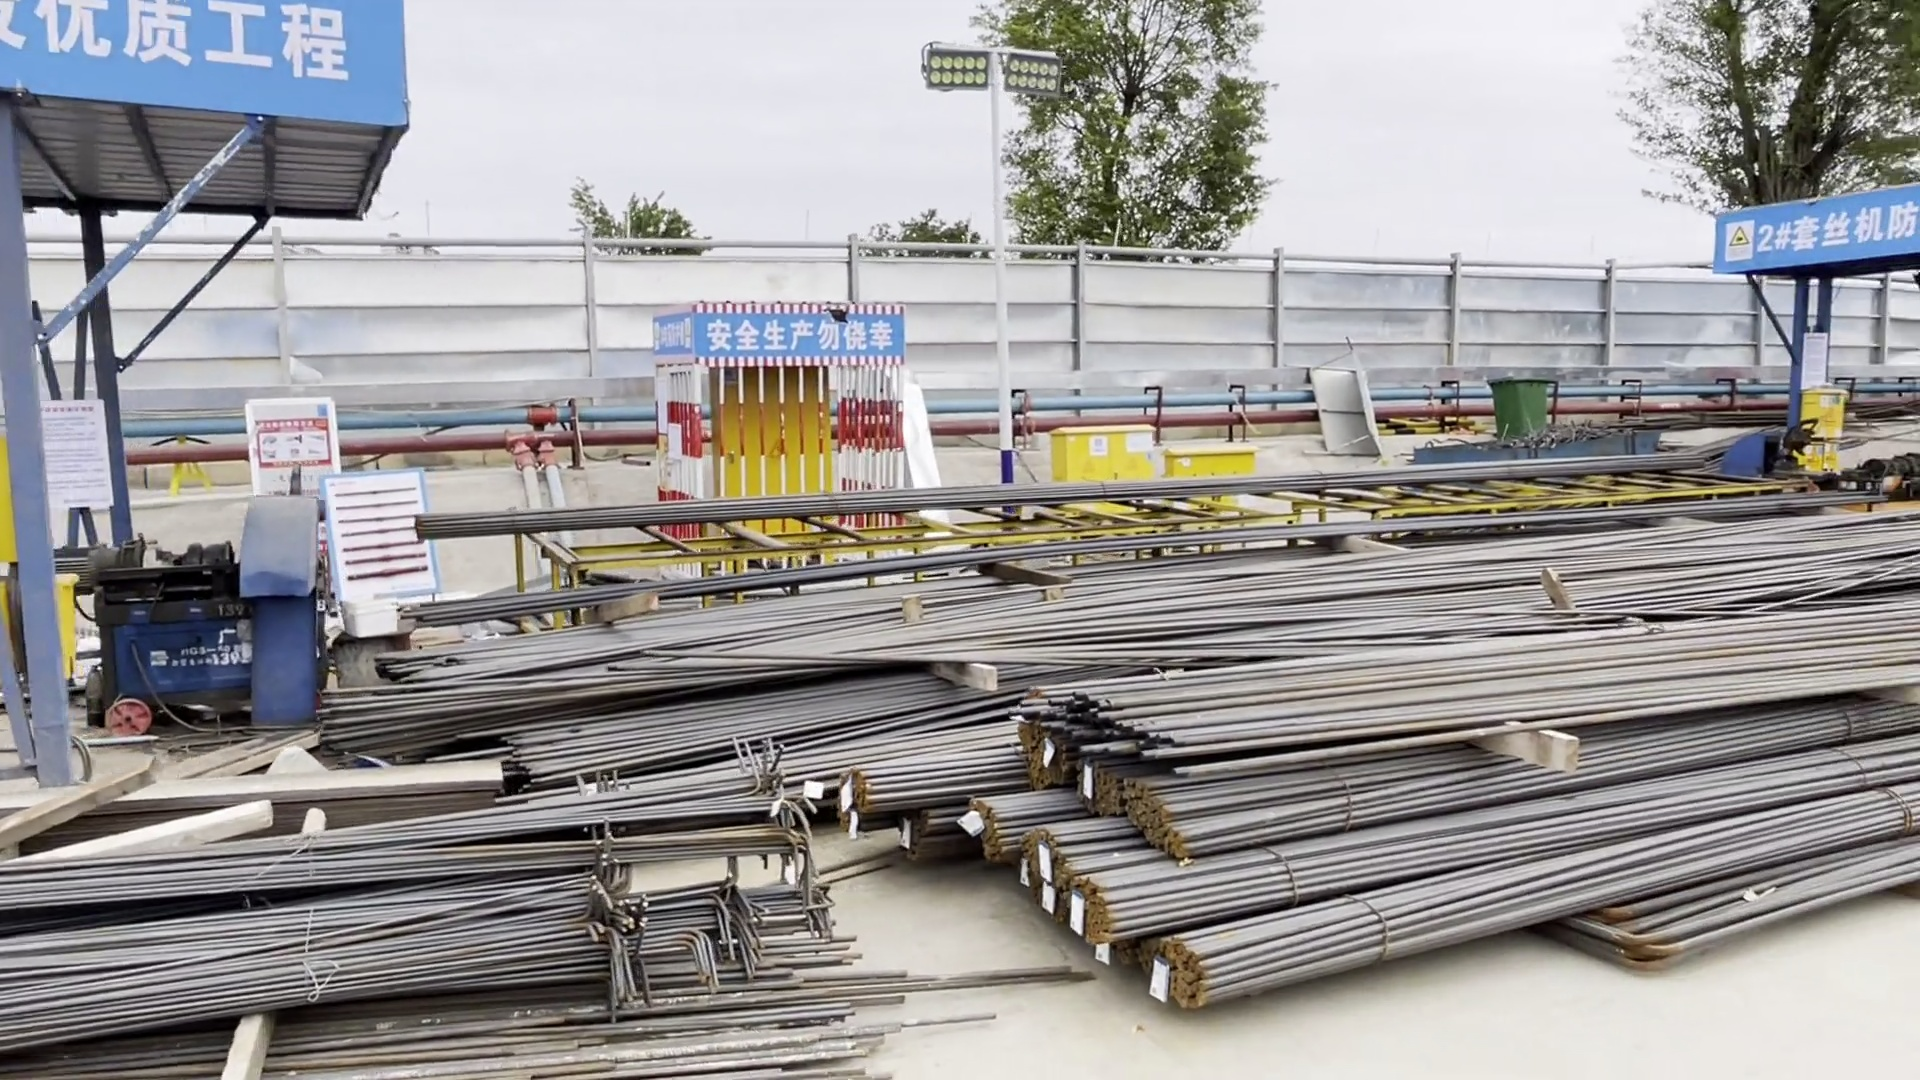ebox: (1044, 419, 1160, 483), (1799, 376, 1851, 469), (1160, 440, 1267, 483)
rebar: (363, 506, 1913, 765), (1004, 615, 1920, 996), (3, 800, 897, 1080)
slogan: (13, 1, 377, 117), (655, 313, 903, 361)
